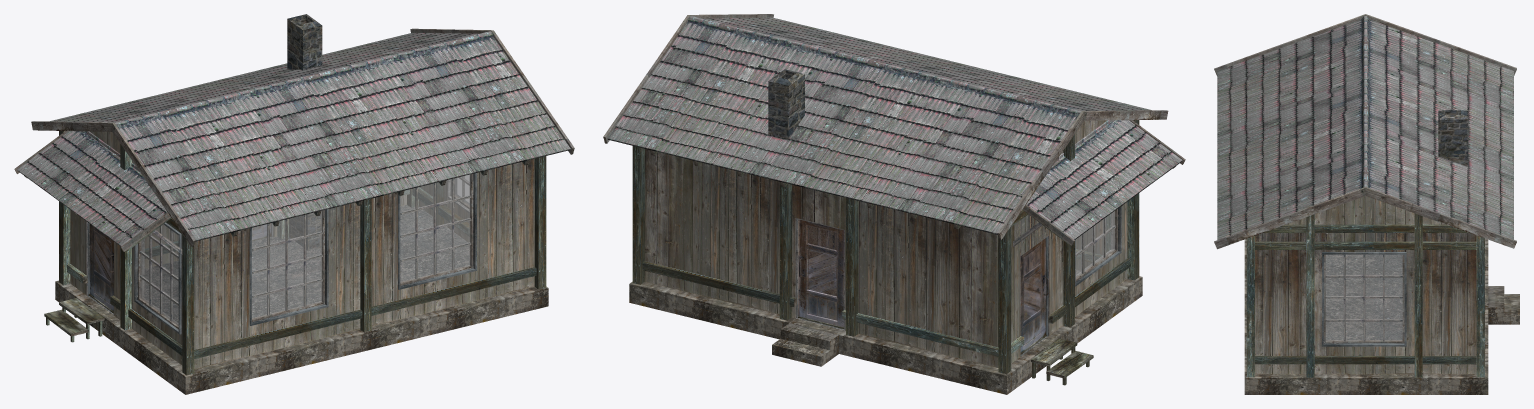
Rendered from wood_house_C.FBX.
The picture shows the model from 3 angles, left to right: view 1: azimuth 30°, elevation 25°; view 2: azimuth 150°, elevation 25°; view 3: azimuth 270°, elevation 25°; orthographic projection. The views are drawn at different scales.
Parts seen in each view (by area): view 1: wood_house_C, window02, window03, window04, stodola_door_A15; view 2: wood_house_C, stodola_door_A16, stodola_door_A15, window04; view 3: wood_house_C, window01.
Part boxes in pixels (x1,y1,x2,y2): wood_house_C: (14, 14, 574, 394); window02: (400, 174, 473, 285); window03: (252, 210, 324, 321); window04: (138, 224, 178, 329); stodola_door_A15: (89, 224, 113, 311); wood_house_C: (603, 14, 1185, 394); stodola_door_A16: (798, 219, 844, 327); stodola_door_A15: (1020, 238, 1048, 352); window04: (1075, 209, 1117, 281); wood_house_C: (1214, 14, 1519, 394); window01: (1324, 254, 1404, 343).
Bounding box in the file's own units: 123 × 81.87 × 65.57.
